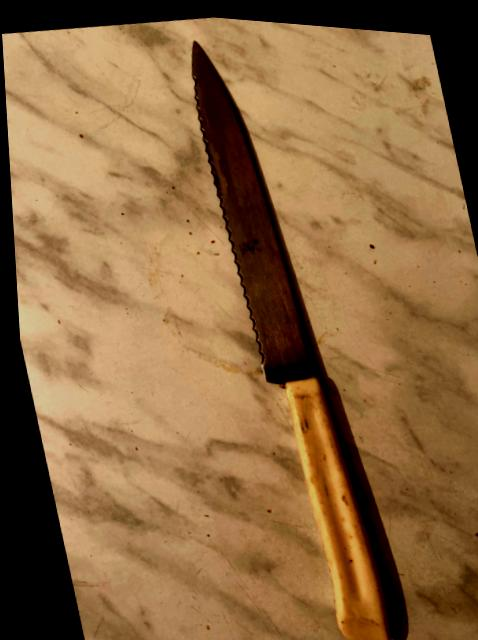Knife: (191, 43, 390, 639)
